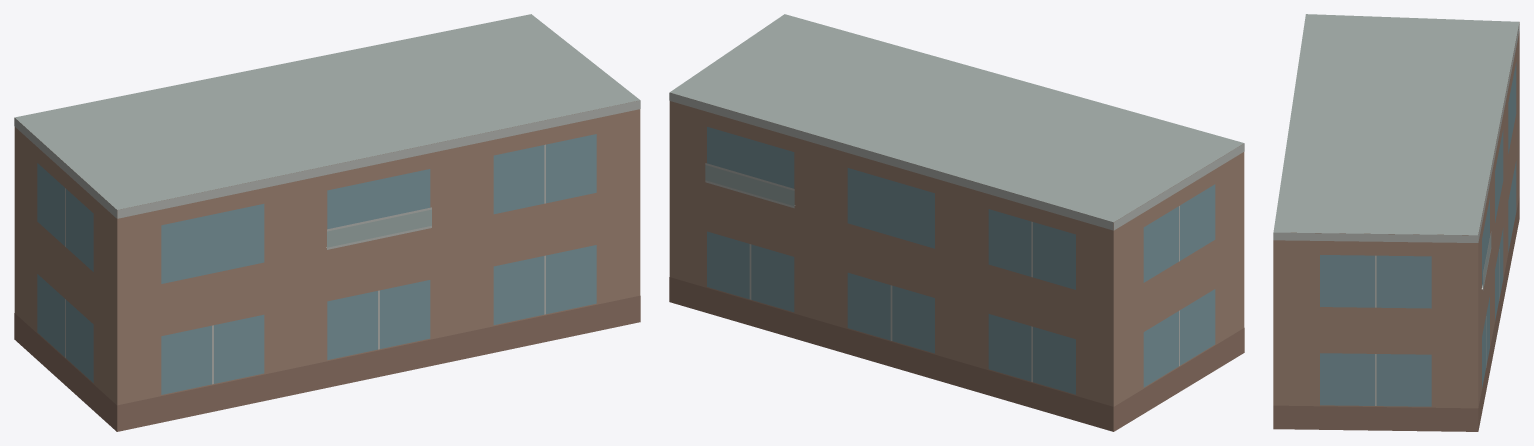
The model's file is survey-upis-32830932.glb.
The picture shows the model from 3 angles, left to right: view 1: azimuth 30°, elevation 25°; view 2: azimuth 150°, elevation 25°; view 3: azimuth 270°, elevation 25°; orthographic projection. The views are drawn at different scales.
Visible parts, largest first — view 1: survey-upis-32830932.tmp; view 2: survey-upis-32830932.tmp; view 3: survey-upis-32830932.tmp.
Part boxes in pixels (<box>): survey-upis-32830932.tmp: <box>14,14,640,431</box>; survey-upis-32830932.tmp: <box>669,14,1244,431</box>; survey-upis-32830932.tmp: <box>1273,14,1519,431</box>.
Bounding box in the file's own units: 14.73 × 6.1 × 6.93.
